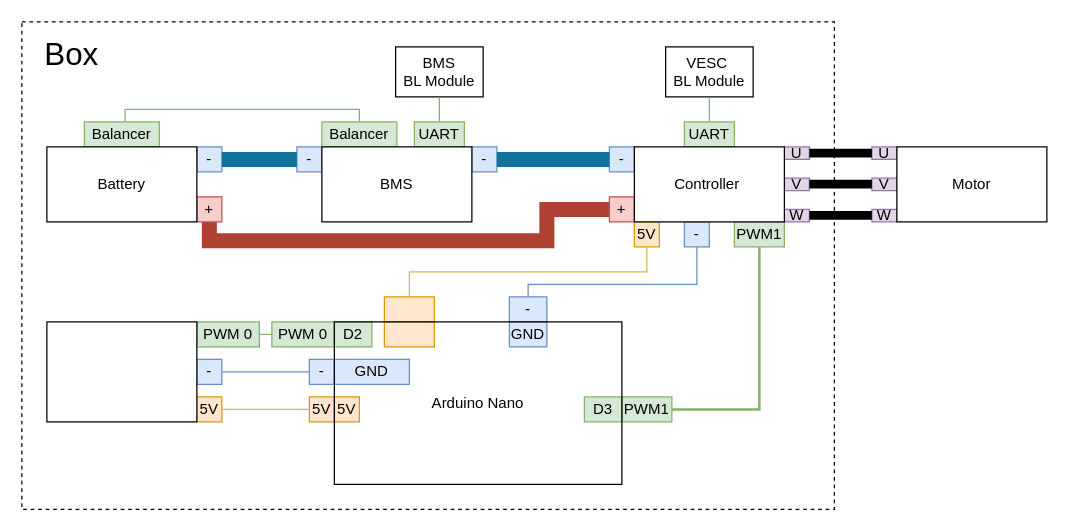
This 1069x531 diagram has some shape labels left out. Each missing label, with the centre of its shape:
Input: the point at 408,309
Receiver: the point at 121,371
VIN: the point at 408,334
